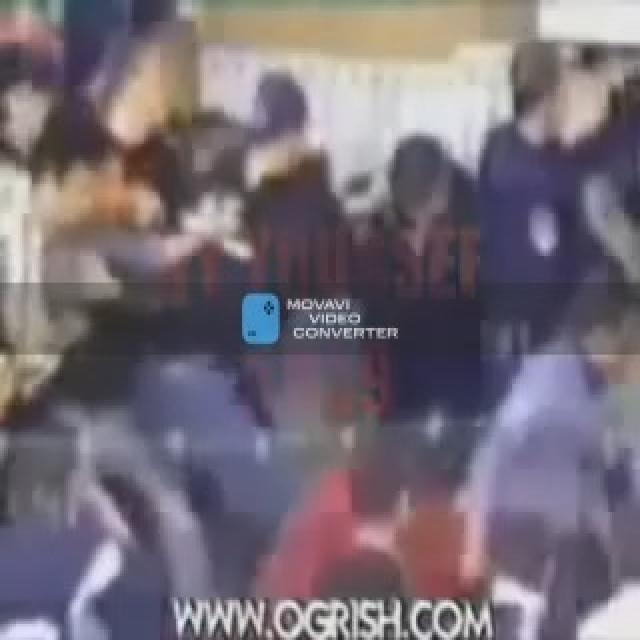non-voilence: (0, 22, 638, 638)
